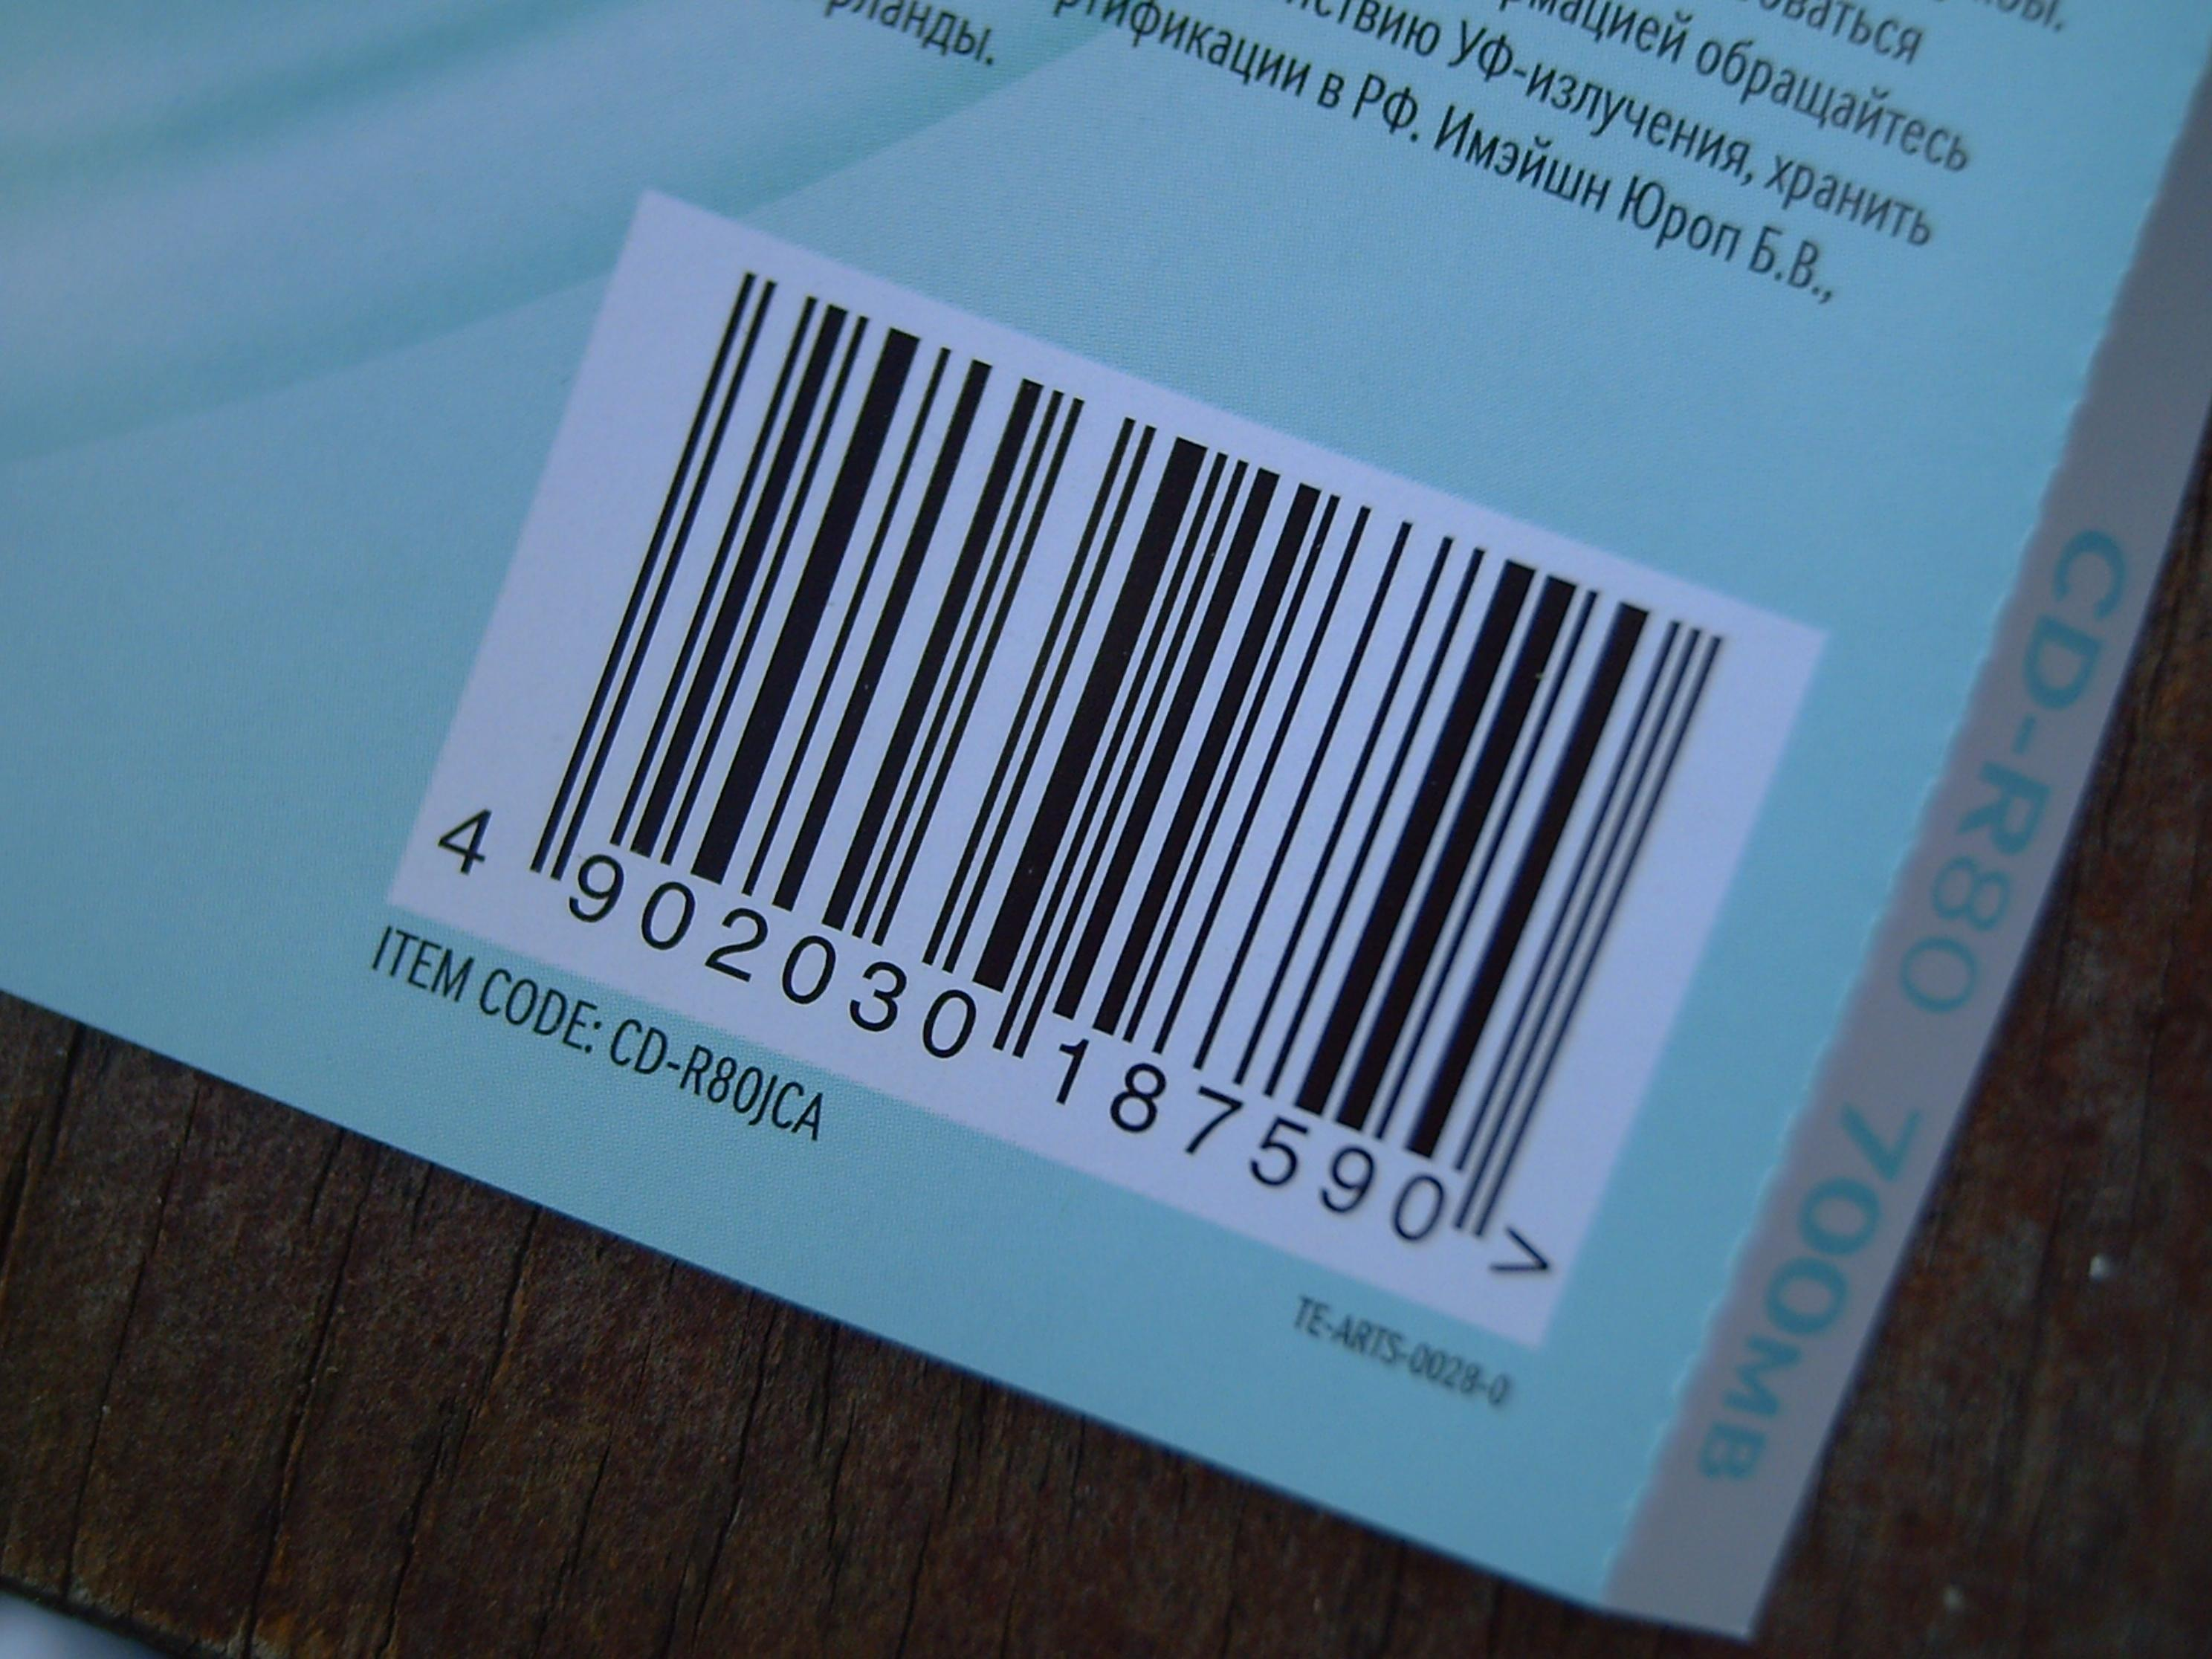barcode: (387, 188, 1825, 1351)
